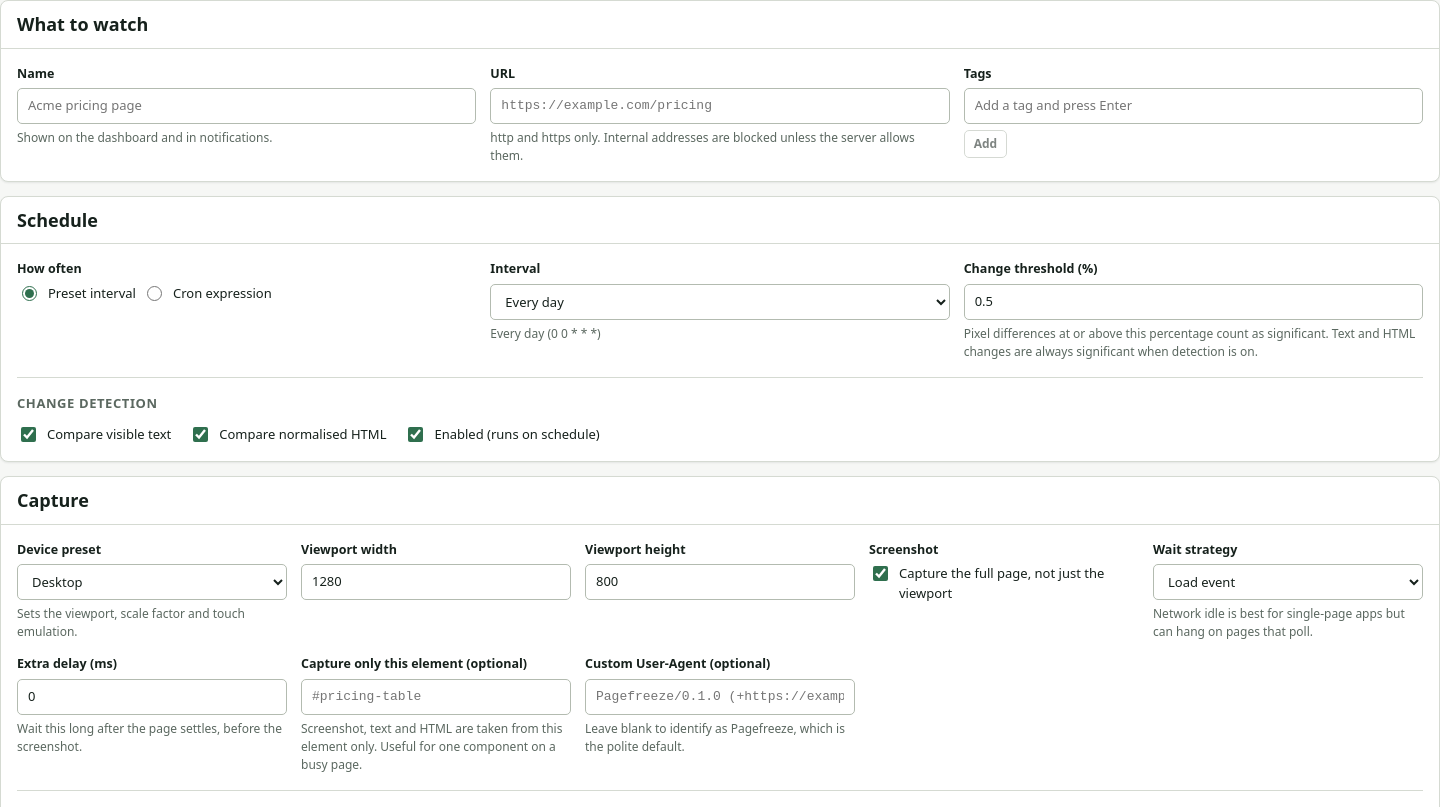
it: MonitorForm validation › hides the selector field again for other strategies
This screenshot has width=1440, height=807.
Select "Wait for a selector" in the dropdown labelled "Wait strategy" at (1288, 582), box x1=1153 y1=564 x2=1423 y2=600
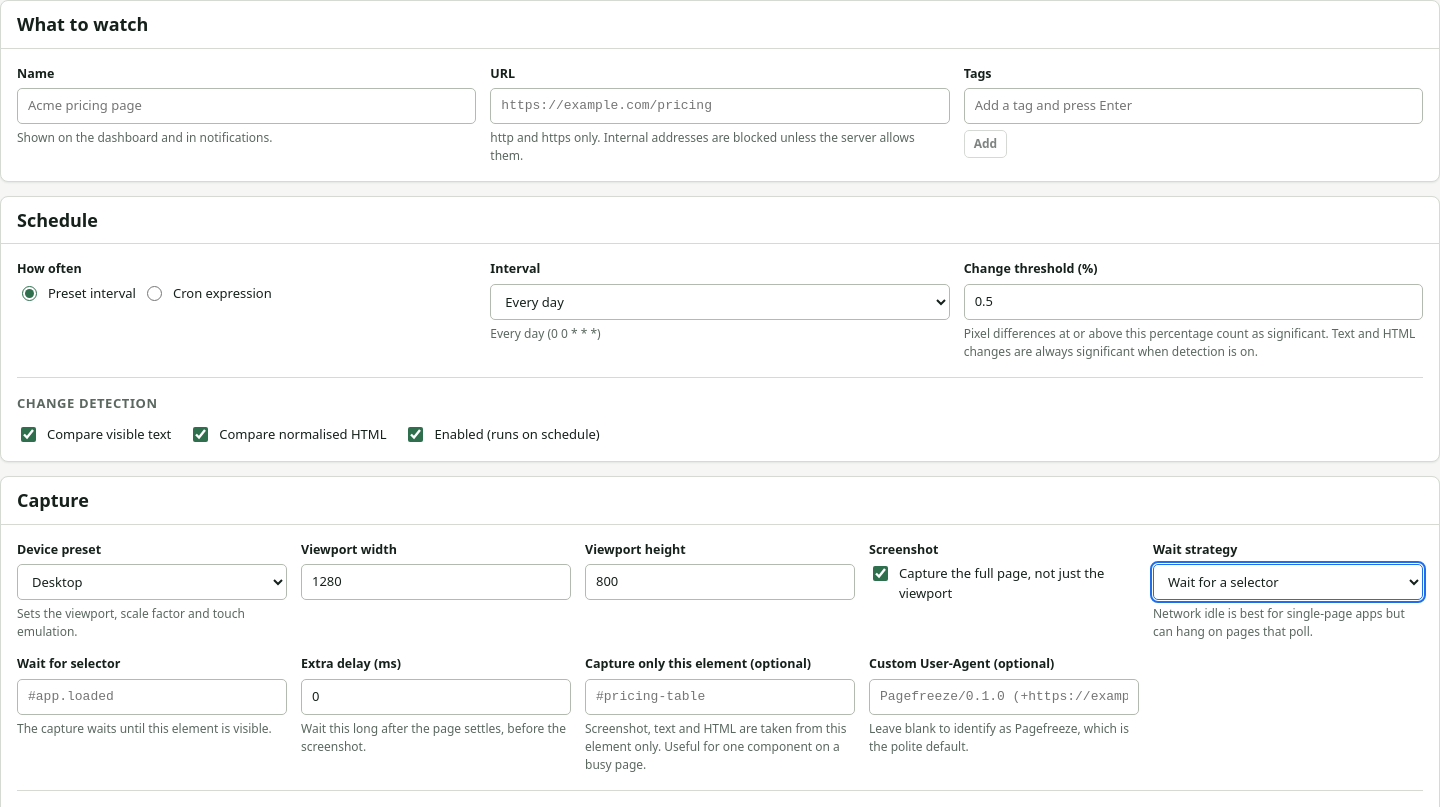
Now the field labelled "Wait for selector" is shown, box x1=17 y1=679 x2=287 y2=714
Select "Load event" in the dropdown labelled "Wait strategy" at (1288, 582), box x1=1153 y1=564 x2=1423 y2=600
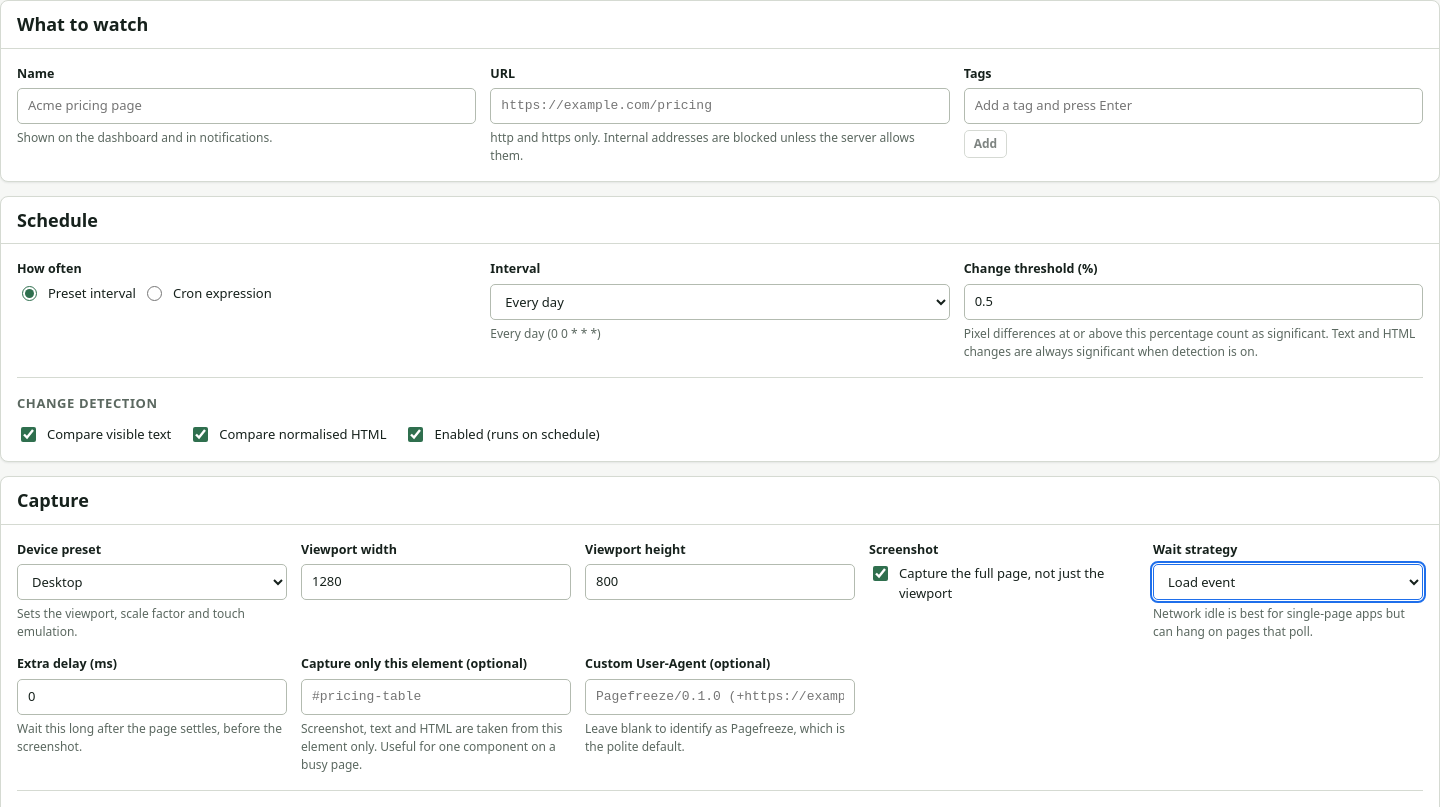
Now the label labelled "Wait for selector" is gone
